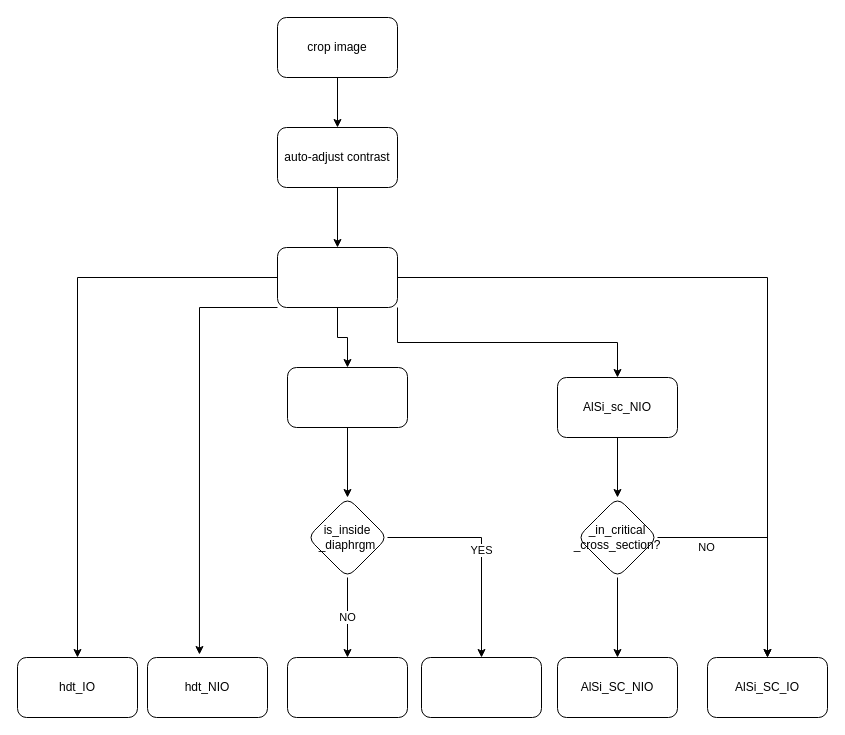
Some shapes in this 845 by 735 pixel diagram are drawn without their labels. Each missing label, with the centre of its shape:
"AlSi" belongs at pixel 347 397.
"AlSi_d_IO" belongs at pixel 347 687.
"AlSi_d_NIO" belongs at pixel 481 687.
"Object Detection with YOLO v8" belongs at pixel 337 277.
